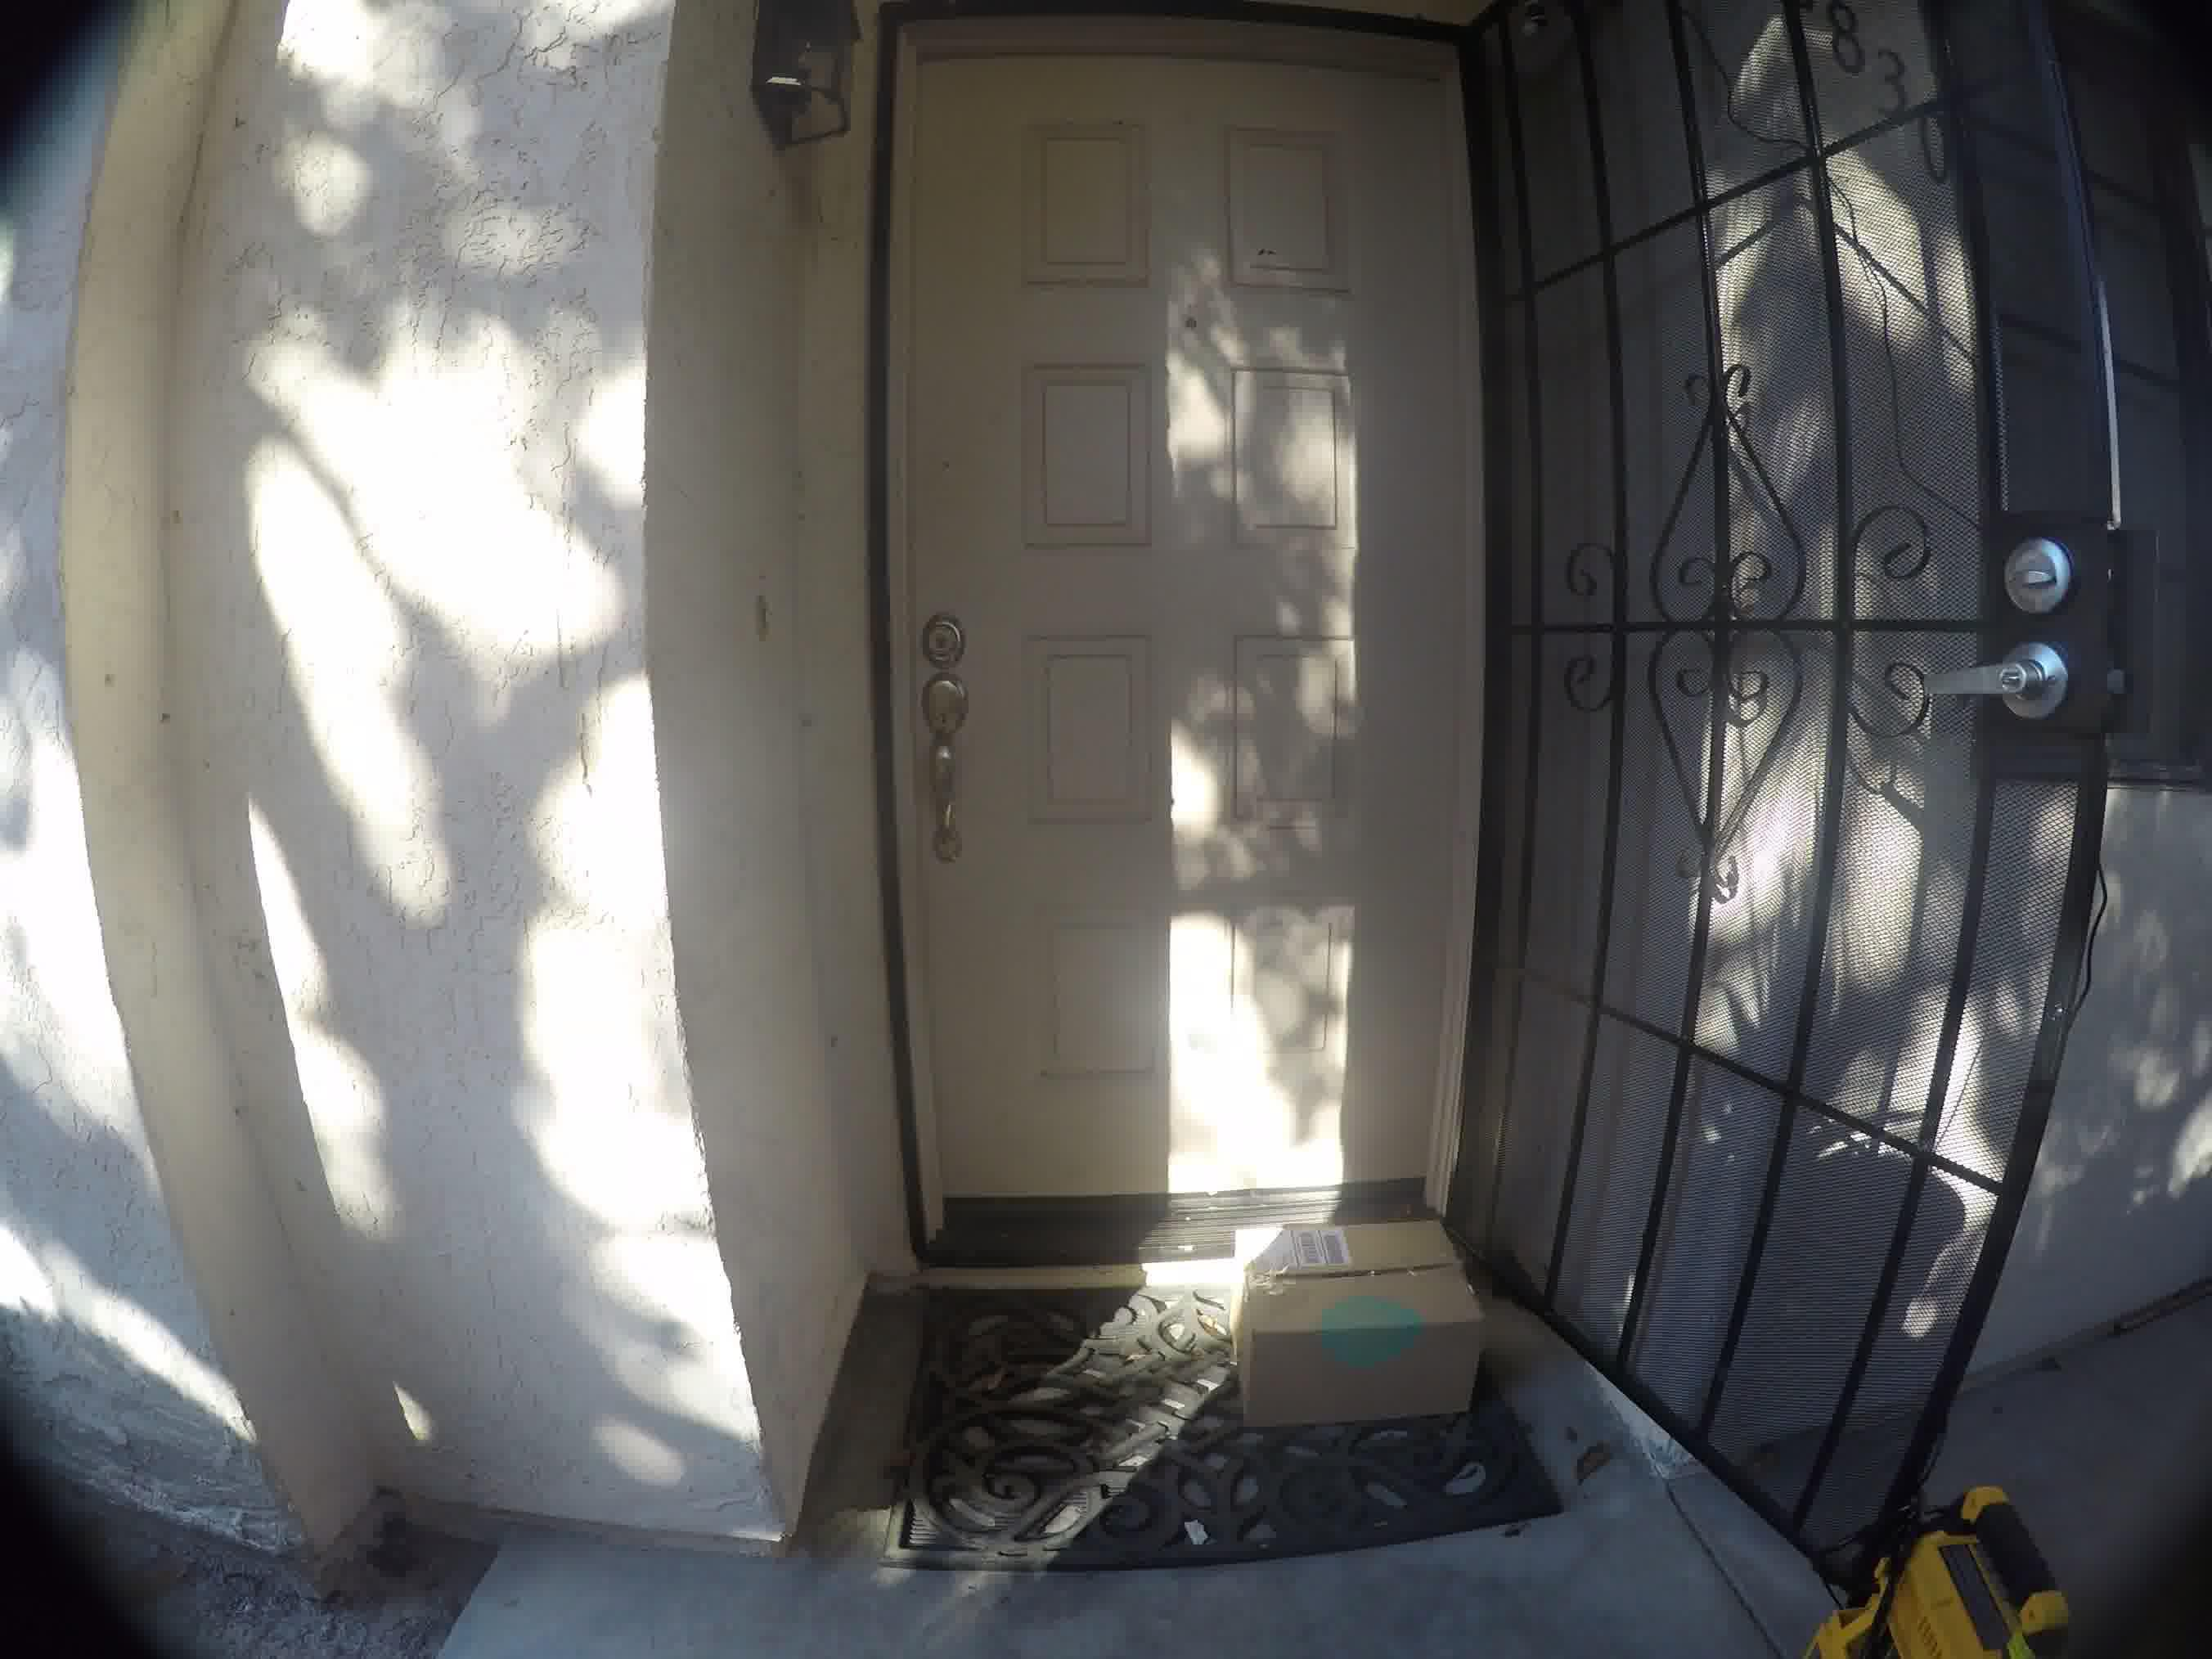box: (1216, 1201, 1489, 1441)
